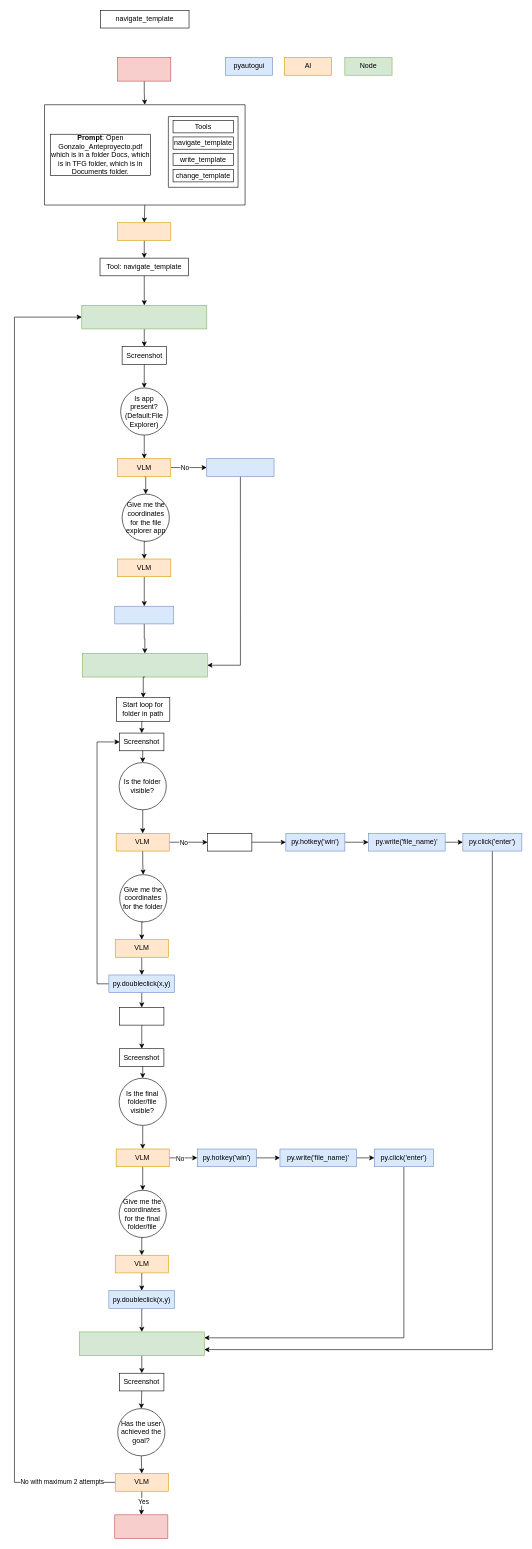
Some shapes in this 532 by 1549 pixel diagram are drawn without their labels. The shapes that lost their labels are listed below. From the top down, each one's box as (x1, y1, x2, y2) in pixels, then its label:
(117, 57, 171, 81): START
(117, 222, 171, 240): FunctionCall
(81, 305, 207, 329): Node 1: Launch app
(206, 458, 274, 476): py.hotkey('win', 'e')
(114, 606, 174, 624): py.click(x,y)
(82, 653, 207, 677): Node 2: Navigate
(207, 833, 252, 851): Exit loop
(119, 1007, 164, 1025): End loop
(79, 1331, 204, 1356): Node 3: Verify
(114, 1514, 168, 1538): END
